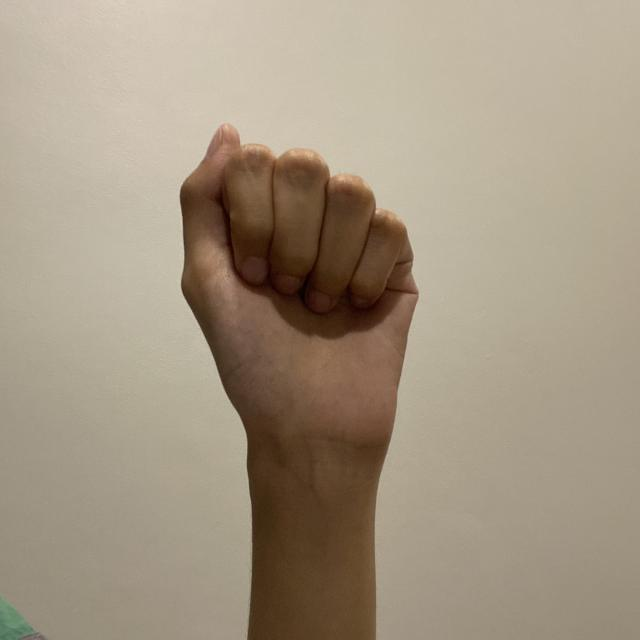A: (176, 120, 420, 452)
